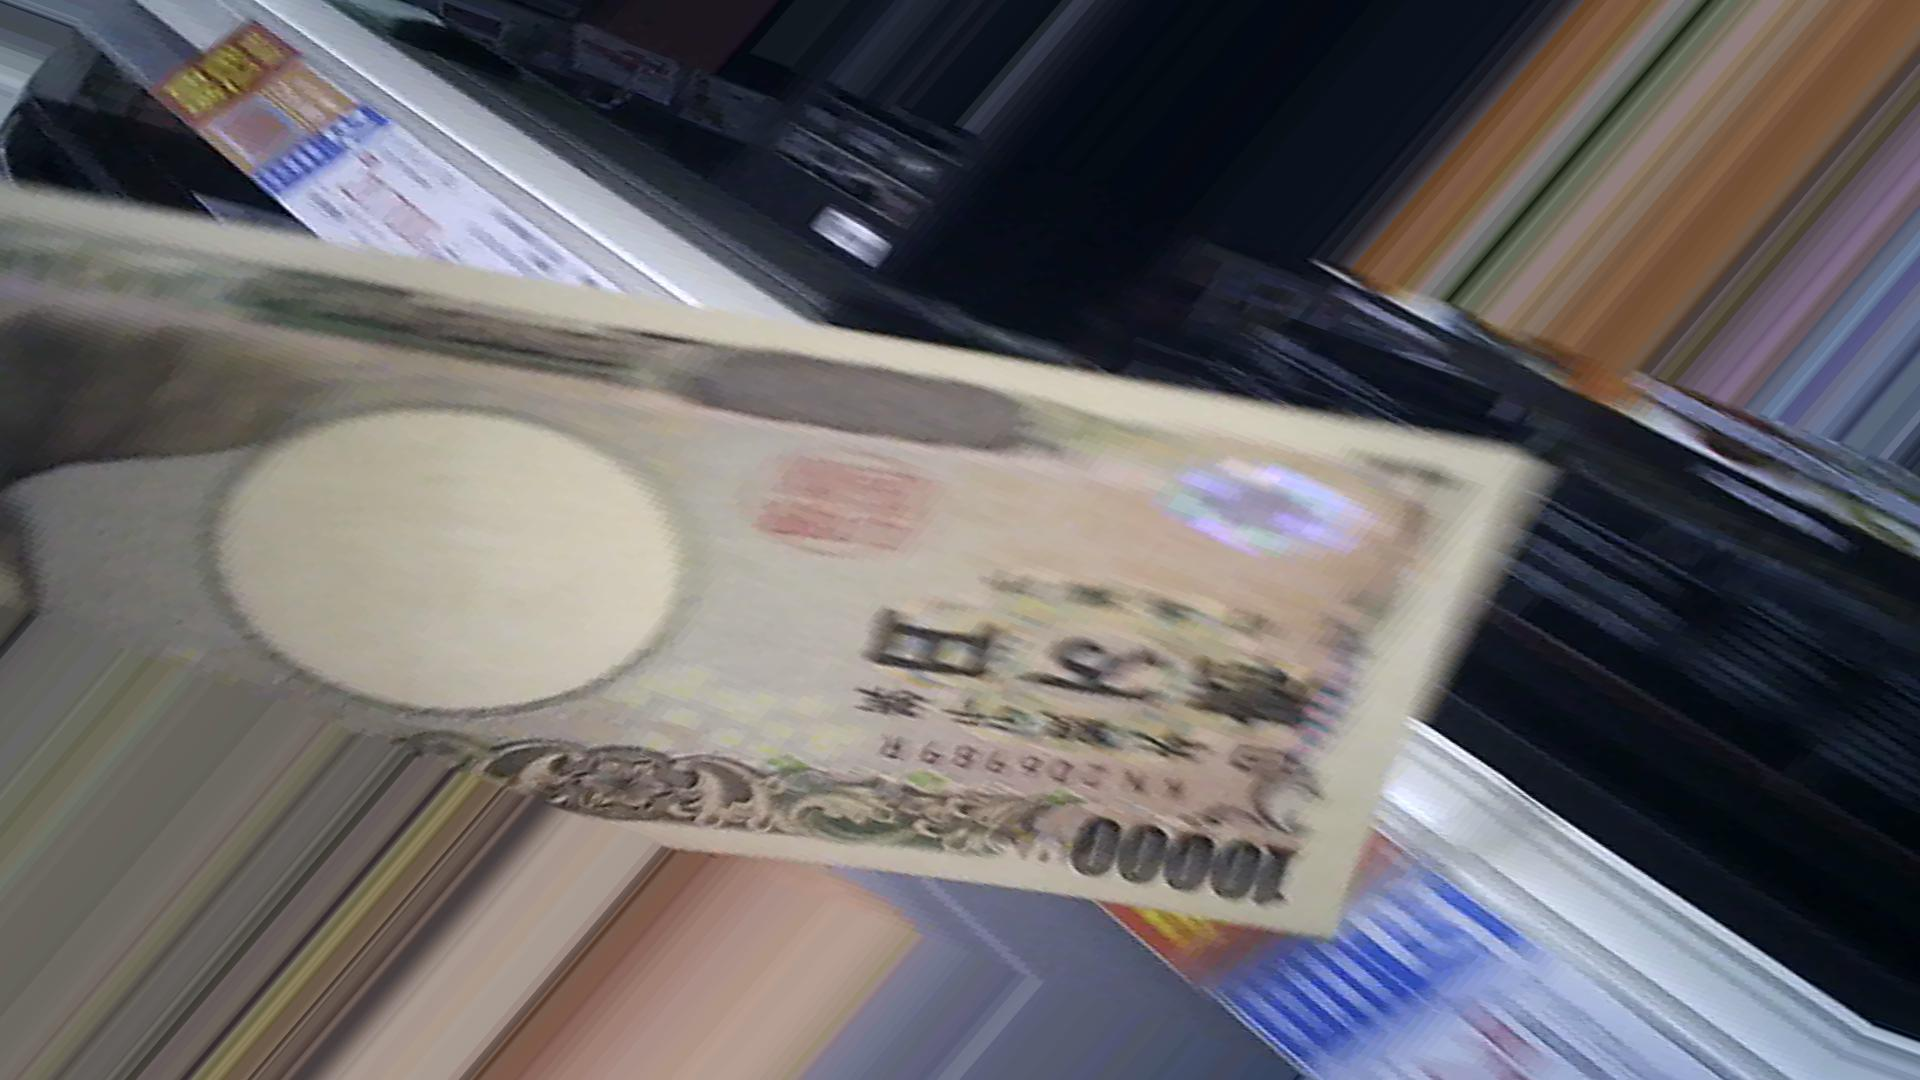10,000 Yen: (164, 212, 1410, 942)
